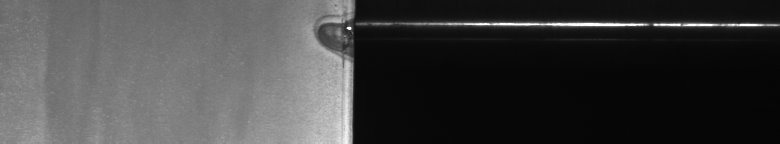hb: (306, 5, 344, 68)
